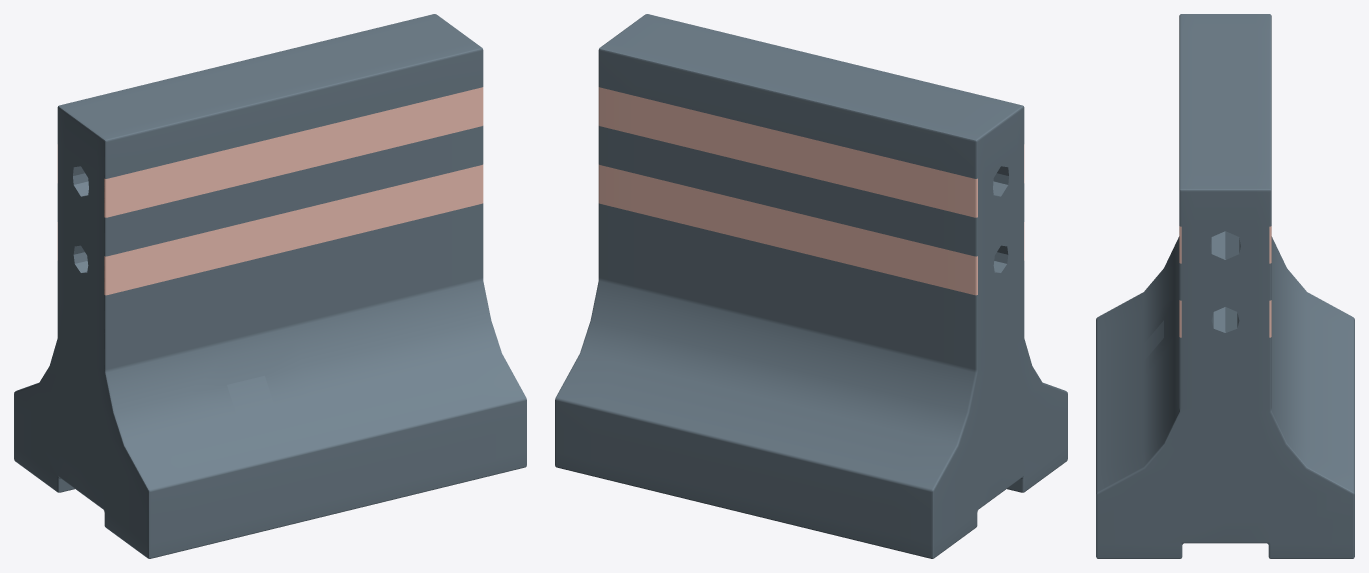
The model's file is blue_base_pink_line.fbx.
3 views of the same model, side by side, from view 1: azimuth 30°, elevation 25°; view 2: azimuth 150°, elevation 25°; view 3: azimuth 270°, elevation 25° (orthographic). The views are drawn at different scales.
Visible parts, largest first — view 1: pCube1; view 2: pCube1; view 3: pCube1.
Part boxes in pixels (x1,y1,x2,y2): pCube1: (14,14,526,558); pCube1: (555,14,1067,558); pCube1: (1096,14,1354,558).
Bounding box in the file's own units: 6.05 × 5.91 × 3.75.
